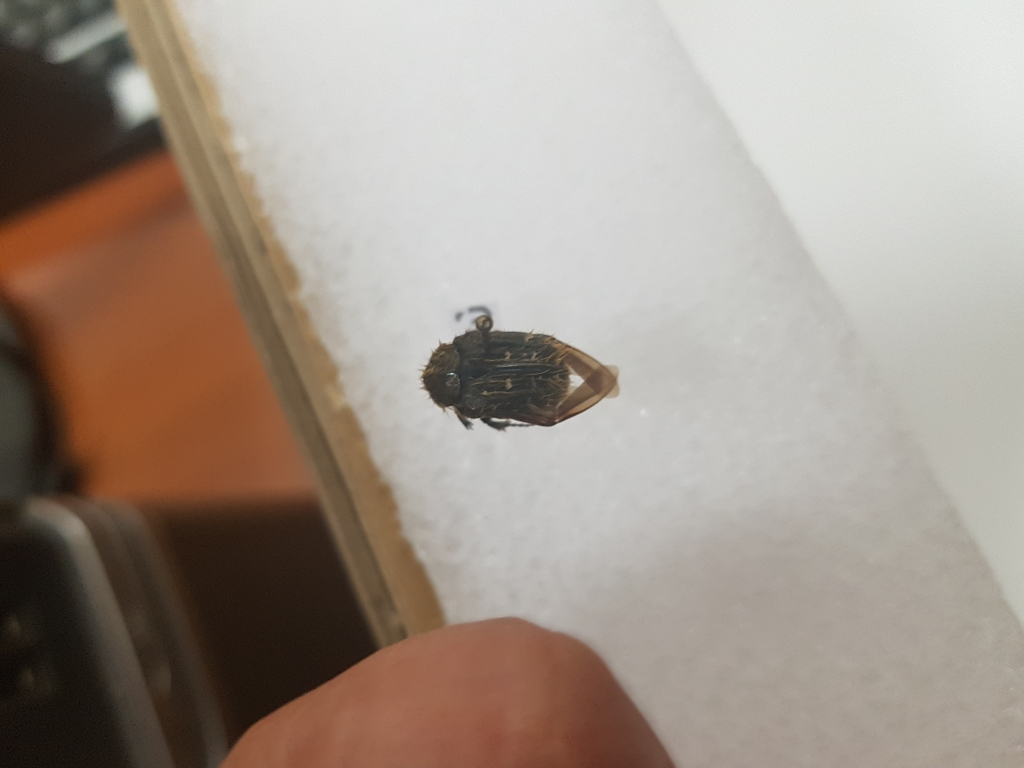Tropinota_hirta: (421, 326, 635, 431)
